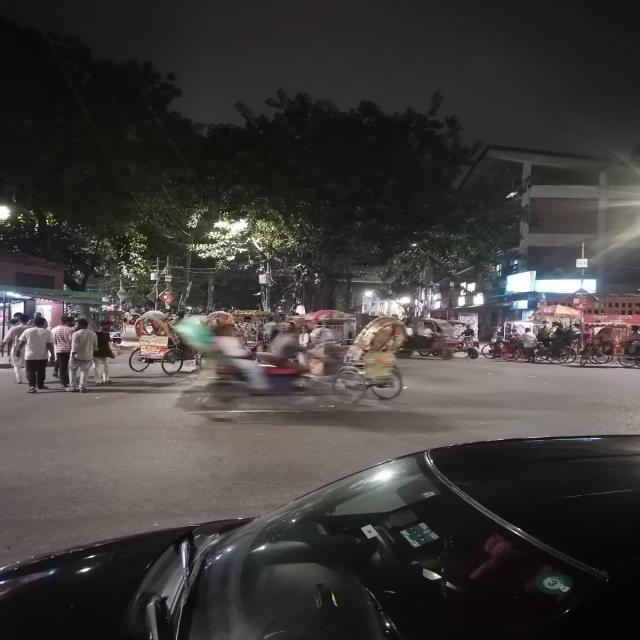person: (10, 313, 117, 395)
